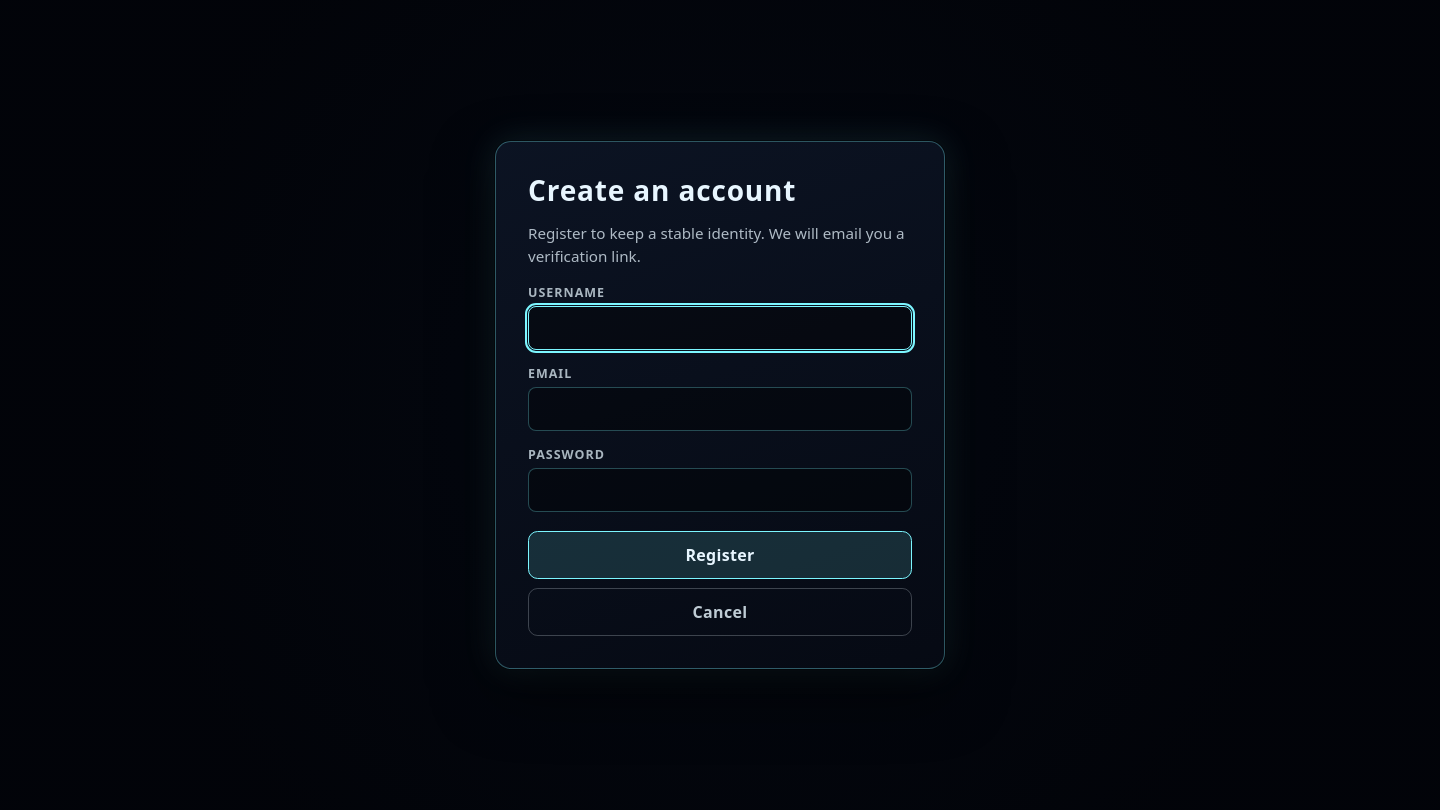
Test case: AuthForms — interaction extra › shows a validation error when registering with a short password
In the field labelled "Username": (720, 328) 528,306 -> 912,350, type "alice"
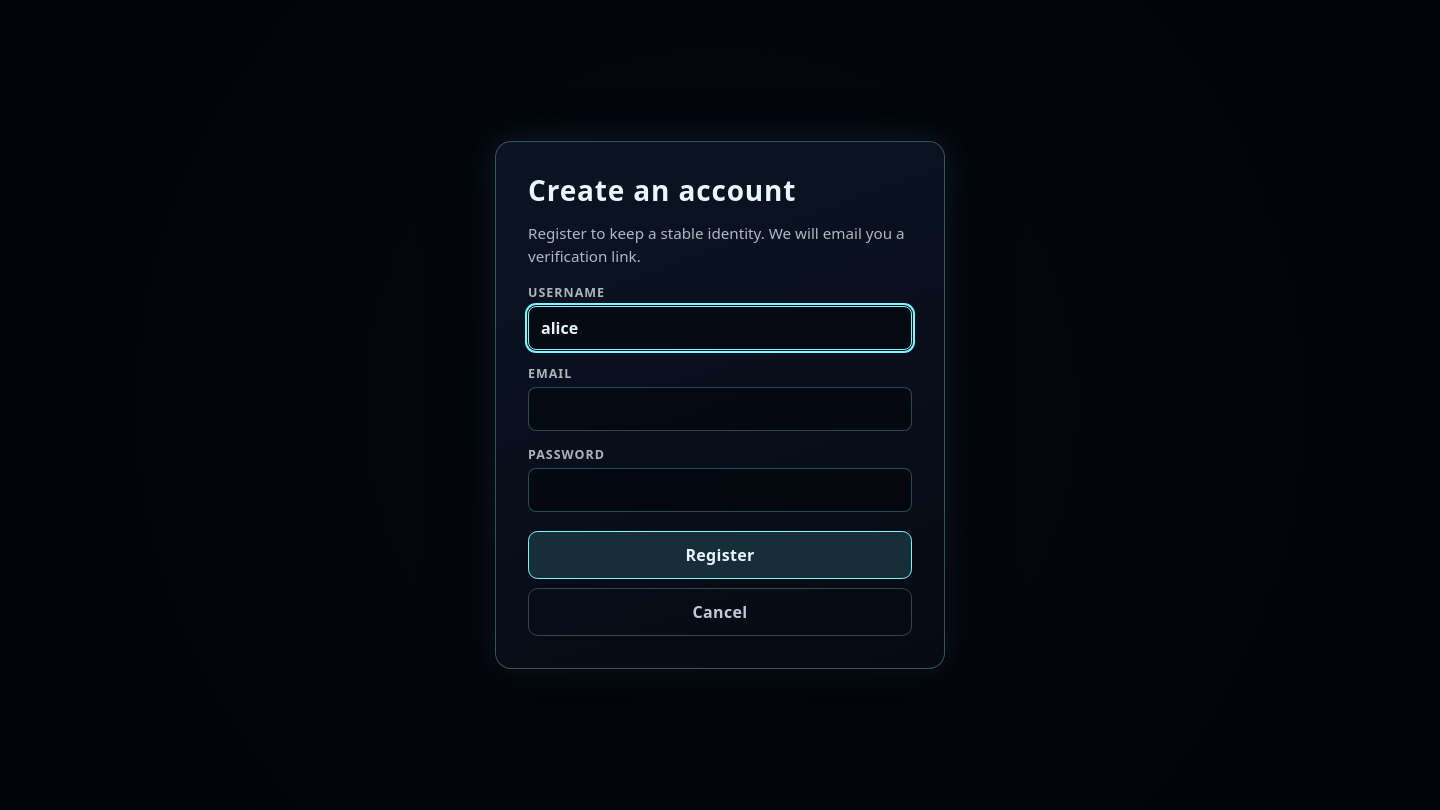
In the field labelled "Email": (720, 409) 528,387 -> 912,431, type "alice@example.com"
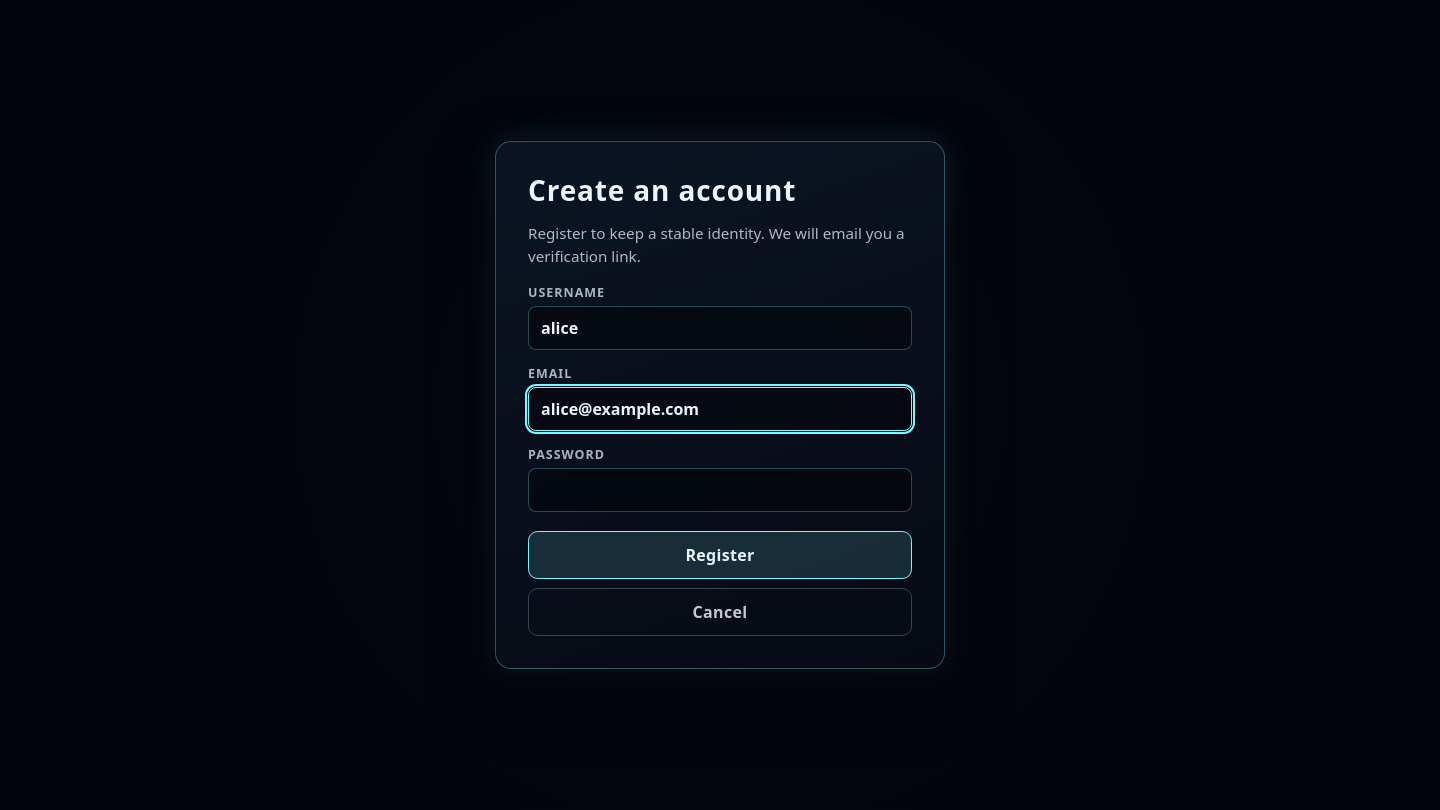
In the password field labelled "Password": (720, 490) 528,468 -> 912,512, type "short"
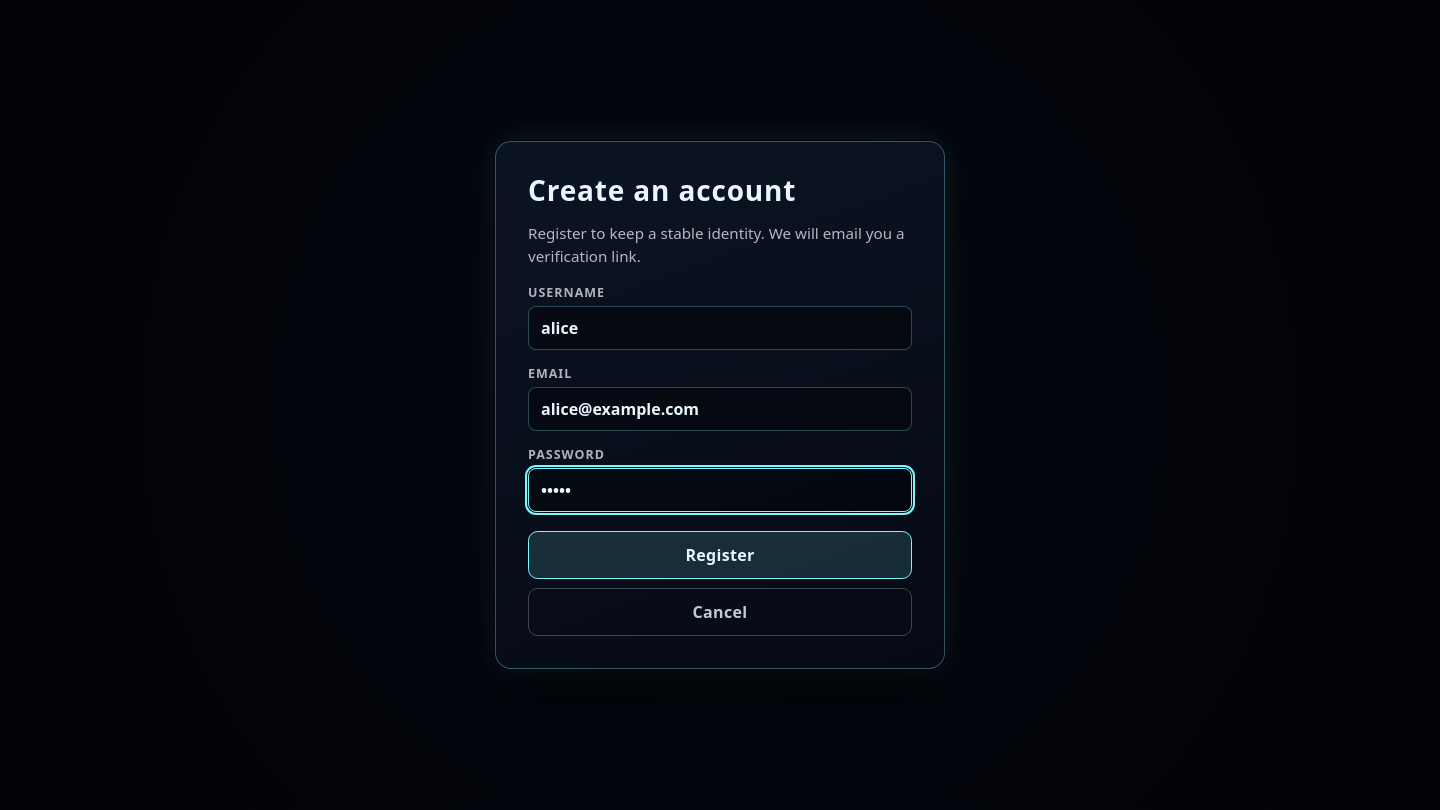
Click the button "Register": (720, 555) 528,531 -> 912,579
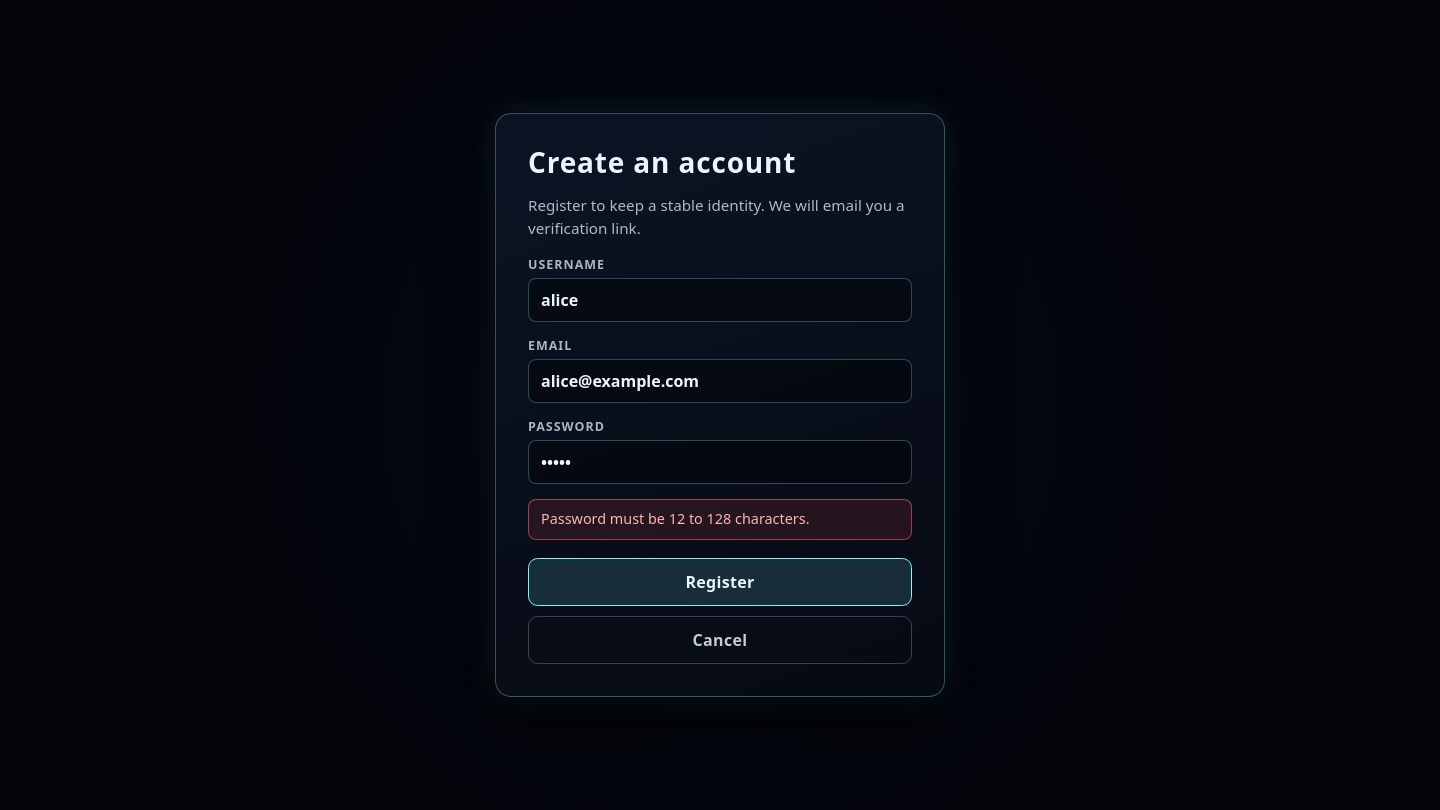
Expected: the message reads "Password must be 12 to 128 characters.", 541,509 -> 810,528
